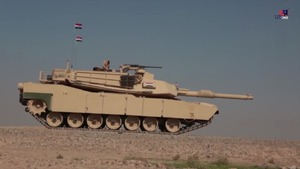abrams: (19, 64, 252, 136)
